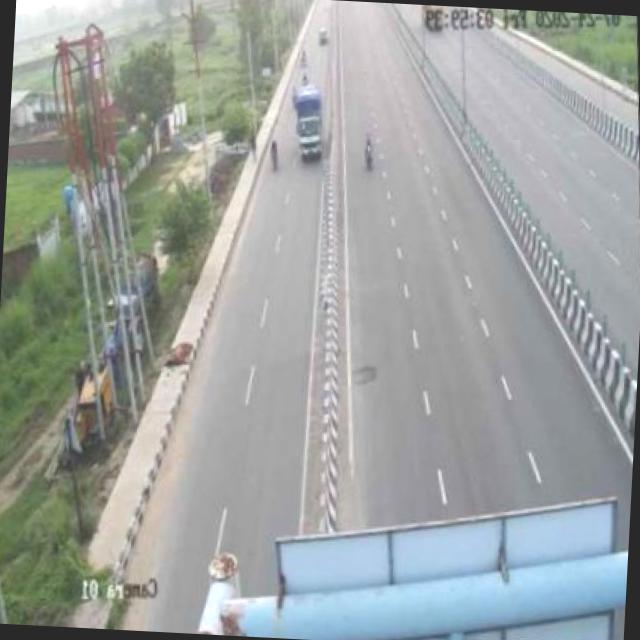car: (286, 78, 331, 169)
